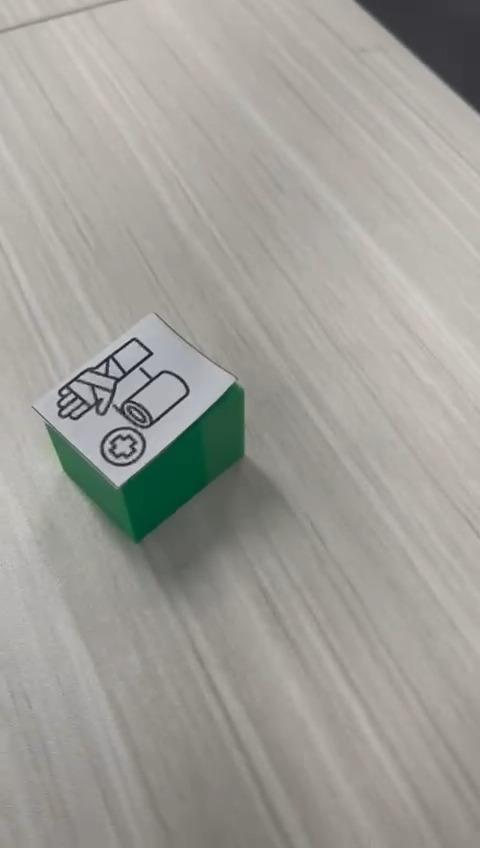Bandages: (31, 312, 244, 543)
